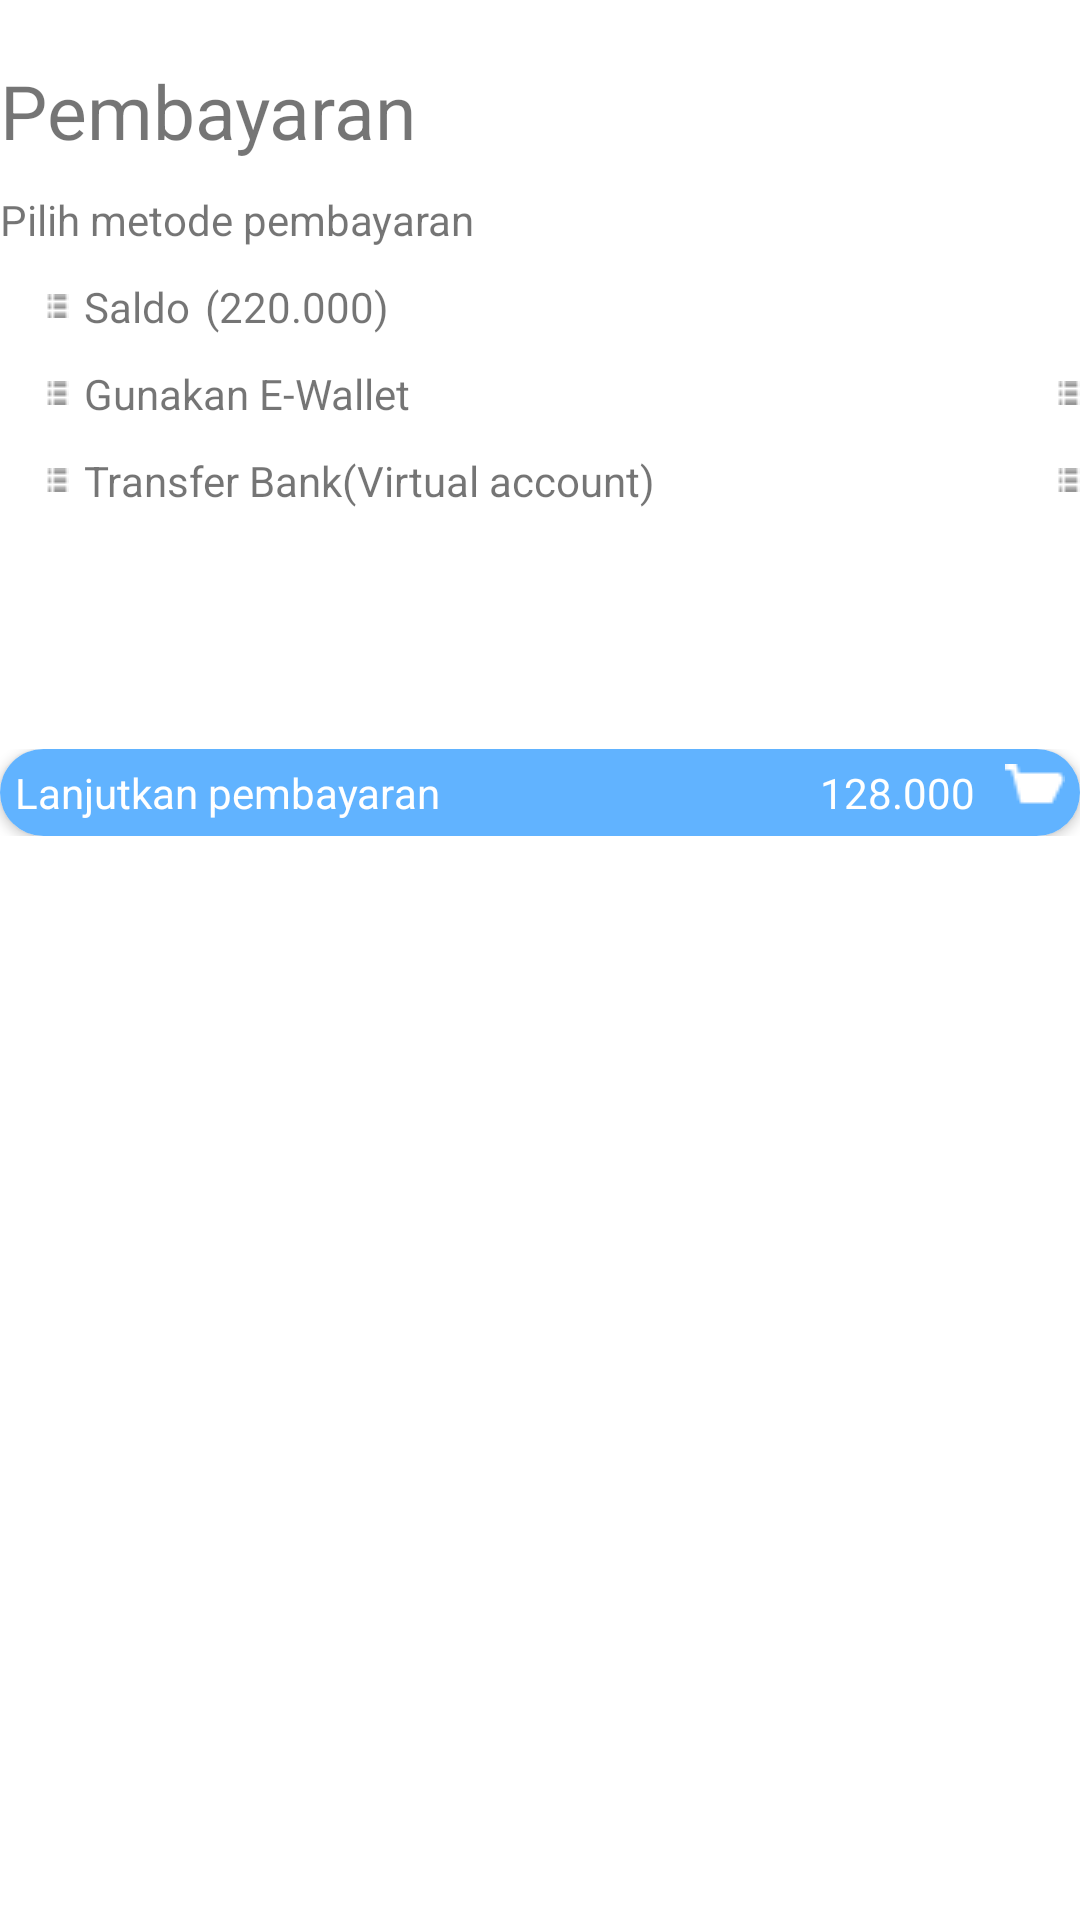

Point at icon controls on the screen. Image size 1080 x 1920, points as (x,y).
keranjang: (1035,784)
